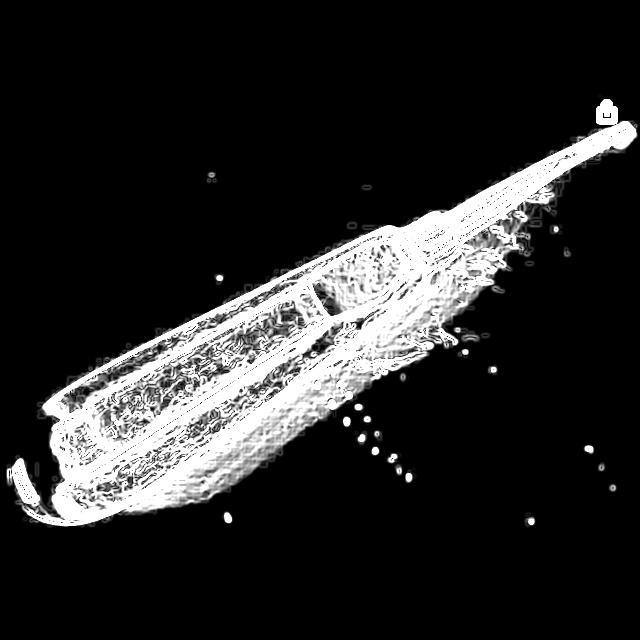botador: (7, 103, 636, 529)
